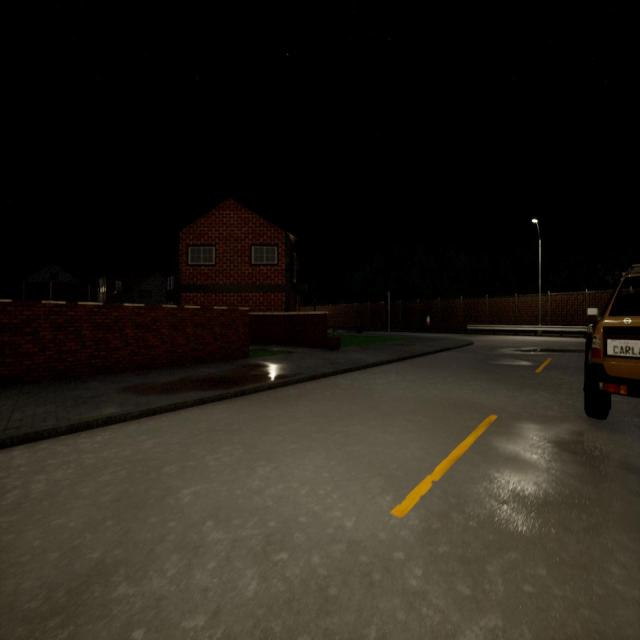Vehicle: (584, 264, 640, 419)
